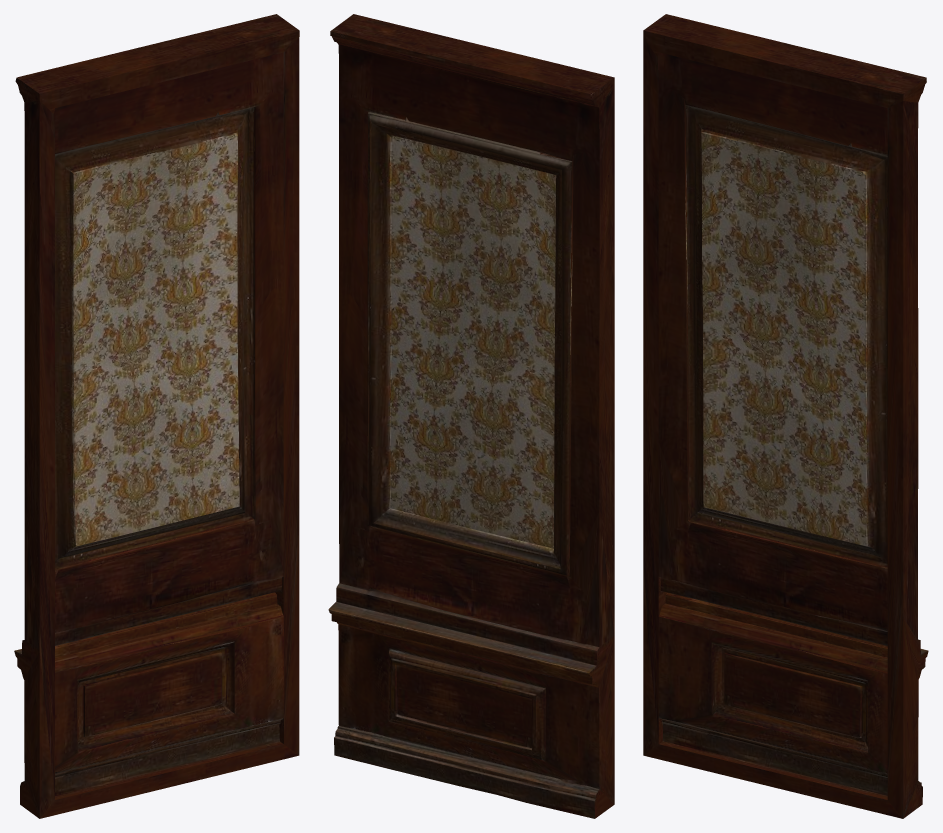
File: panel-wall-modular.lod1.glb
The picture shows the model from 3 angles, left to right: view 1: azimuth 30°, elevation 25°; view 2: azimuth 150°, elevation 25°; view 3: azimuth 330°, elevation 25°; orthographic projection.
Parts seen in each view (by area): view 1: panel-wall-modular; view 2: panel-wall-modular; view 3: panel-wall-modular.
Boxes of the visible parts, x1,y1,x2,y2 form: panel-wall-modular: (14, 14, 299, 818); panel-wall-modular: (328, 14, 614, 818); panel-wall-modular: (643, 14, 928, 818).
Bounding box in the file's own units: 1.51 × 4 × 0.2548.
Materials: 1 (1 with a texture image).
